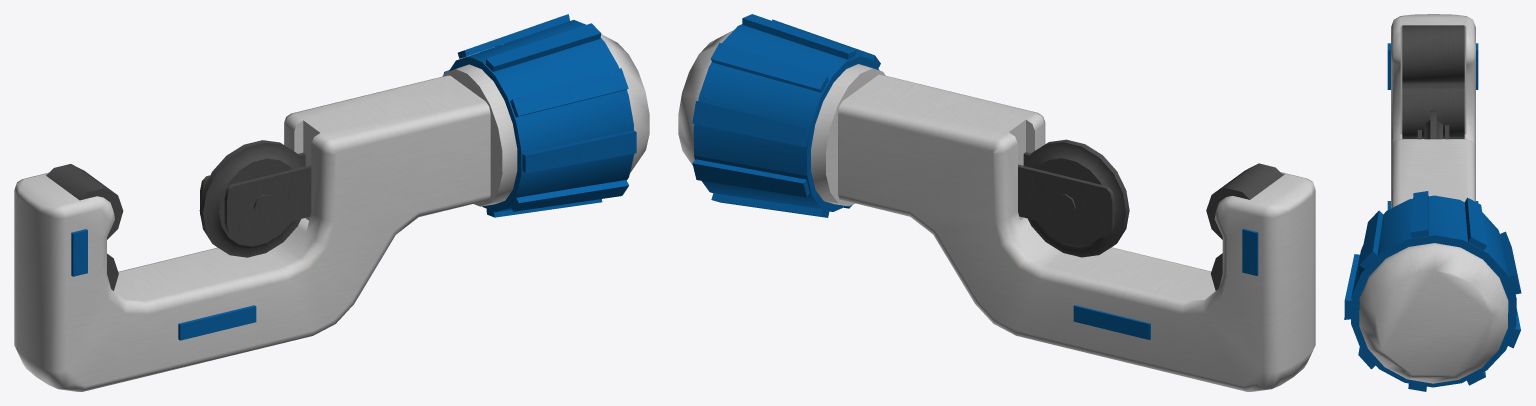
Rendered from tool_Pipe_cutter_big.glb.
The picture shows the model from 3 angles, left to right: view 1: azimuth 30°, elevation 25°; view 2: azimuth 150°, elevation 25°; view 3: azimuth 270°, elevation 25°; orthographic projection. The views are drawn at different scales.
Parts seen in each view (by area): view 1: tool_Pipe_cutter_big; view 2: tool_Pipe_cutter_big; view 3: tool_Pipe_cutter_big.
Part boxes in pixels (<box>): tool_Pipe_cutter_big: <box>14,14,649,391</box>; tool_Pipe_cutter_big: <box>678,14,1315,391</box>; tool_Pipe_cutter_big: <box>1344,14,1521,391</box>.
Bounding box in the file's own units: 0.3069 × 0.1139 × 0.0858.
1 material, 1 textured.
